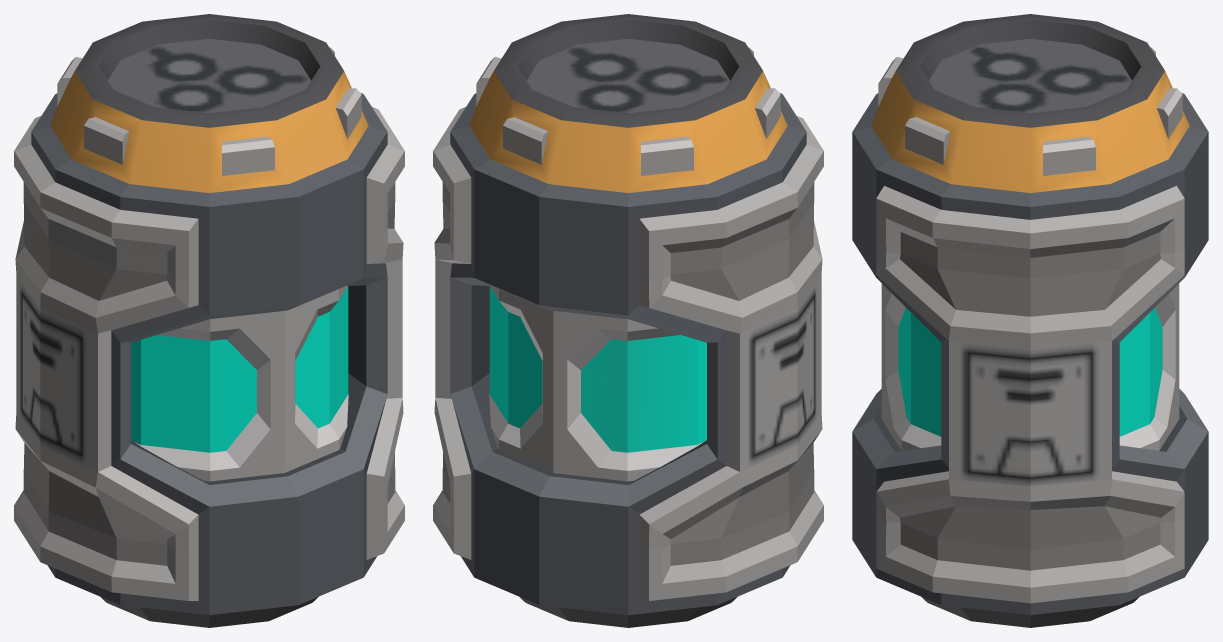
Rendered from SM_Prop_Crate_09.fbx.
3 renders of one model, left to right at view 1: azimuth 30°, elevation 25°; view 2: azimuth 150°, elevation 25°; view 3: azimuth 270°, elevation 25°, orthographic.
Parts seen in each view (by area): view 1: SM_Prop_Crate_09; view 2: SM_Prop_Crate_09; view 3: SM_Prop_Crate_09.
Part boxes in pixels (box(x1,y1,x2,y2)): SM_Prop_Crate_09: box(14, 14, 404, 627); SM_Prop_Crate_09: box(433, 14, 823, 627); SM_Prop_Crate_09: box(852, 14, 1208, 627).
Size of the model in its own units: 62.97 by 90.93 by 57.41.
